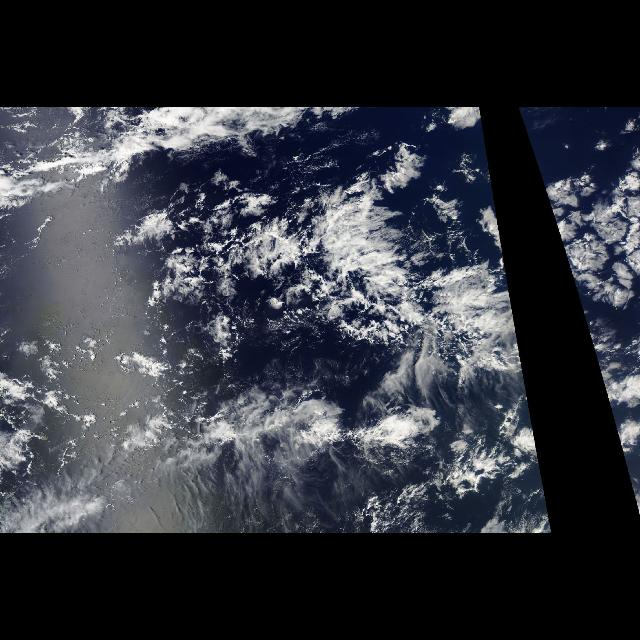Fish: (1, 381, 490, 534), (232, 216, 316, 282)
Flower: (88, 143, 446, 381), (538, 146, 640, 457)
